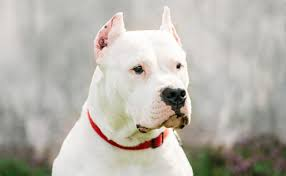dog: (53, 6, 200, 175)
